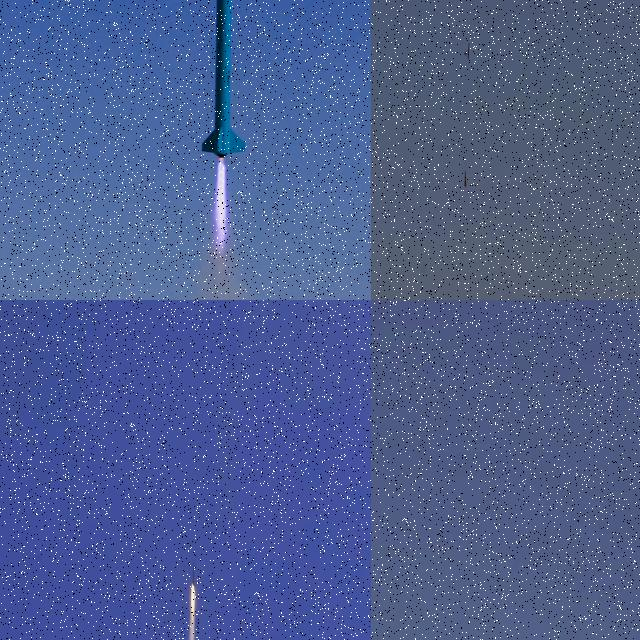Rocket: (199, 0, 247, 158), (192, 561, 195, 588), (464, 170, 467, 188)
